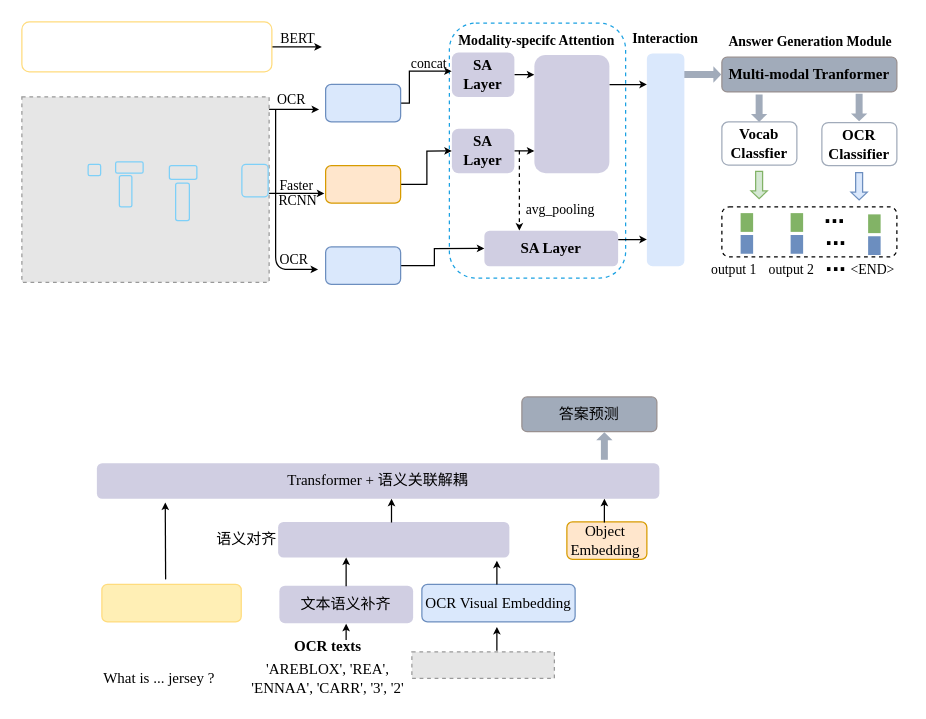
The diagram is 926 pixels wide and 719 high, and some of its shapes have lost their labels. Grey dashed boxes stand in for pictures. Here are the shapes that lost their labels. From the top down, the centre of each, then its label:
At (x=146, y=46): "What is the number on the left of the number two jersey?".
At (x=571, y=113): "Guided Attention Layer".
At (x=665, y=159): "Semantic-guided Interaction".
At (x=393, y=539): "布局信息编码器".
At (x=171, y=602): "Question Embedding".
